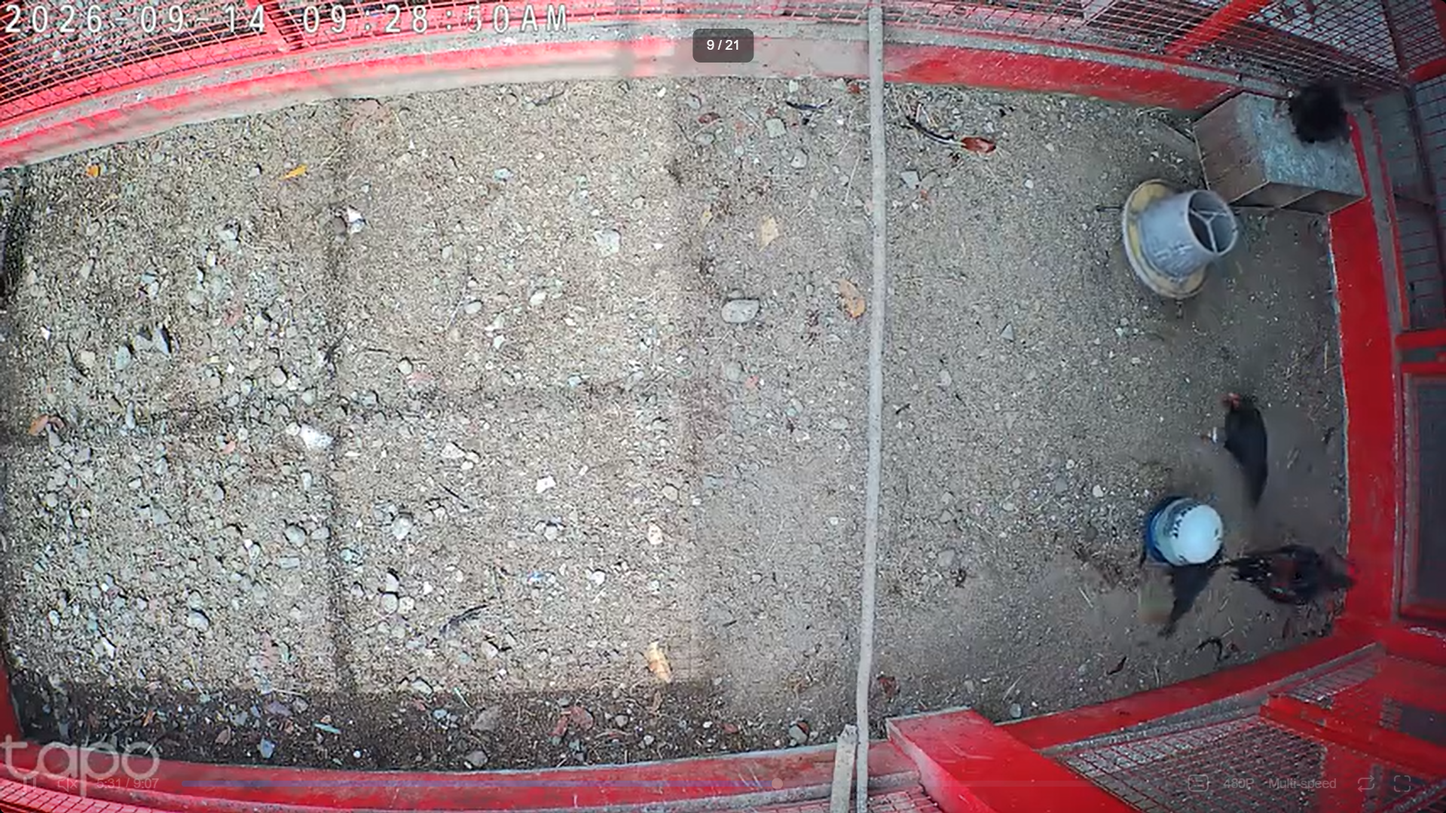Chicken: (1199, 381, 1272, 506)
Leg_Band_White: (1211, 425, 1219, 444)
